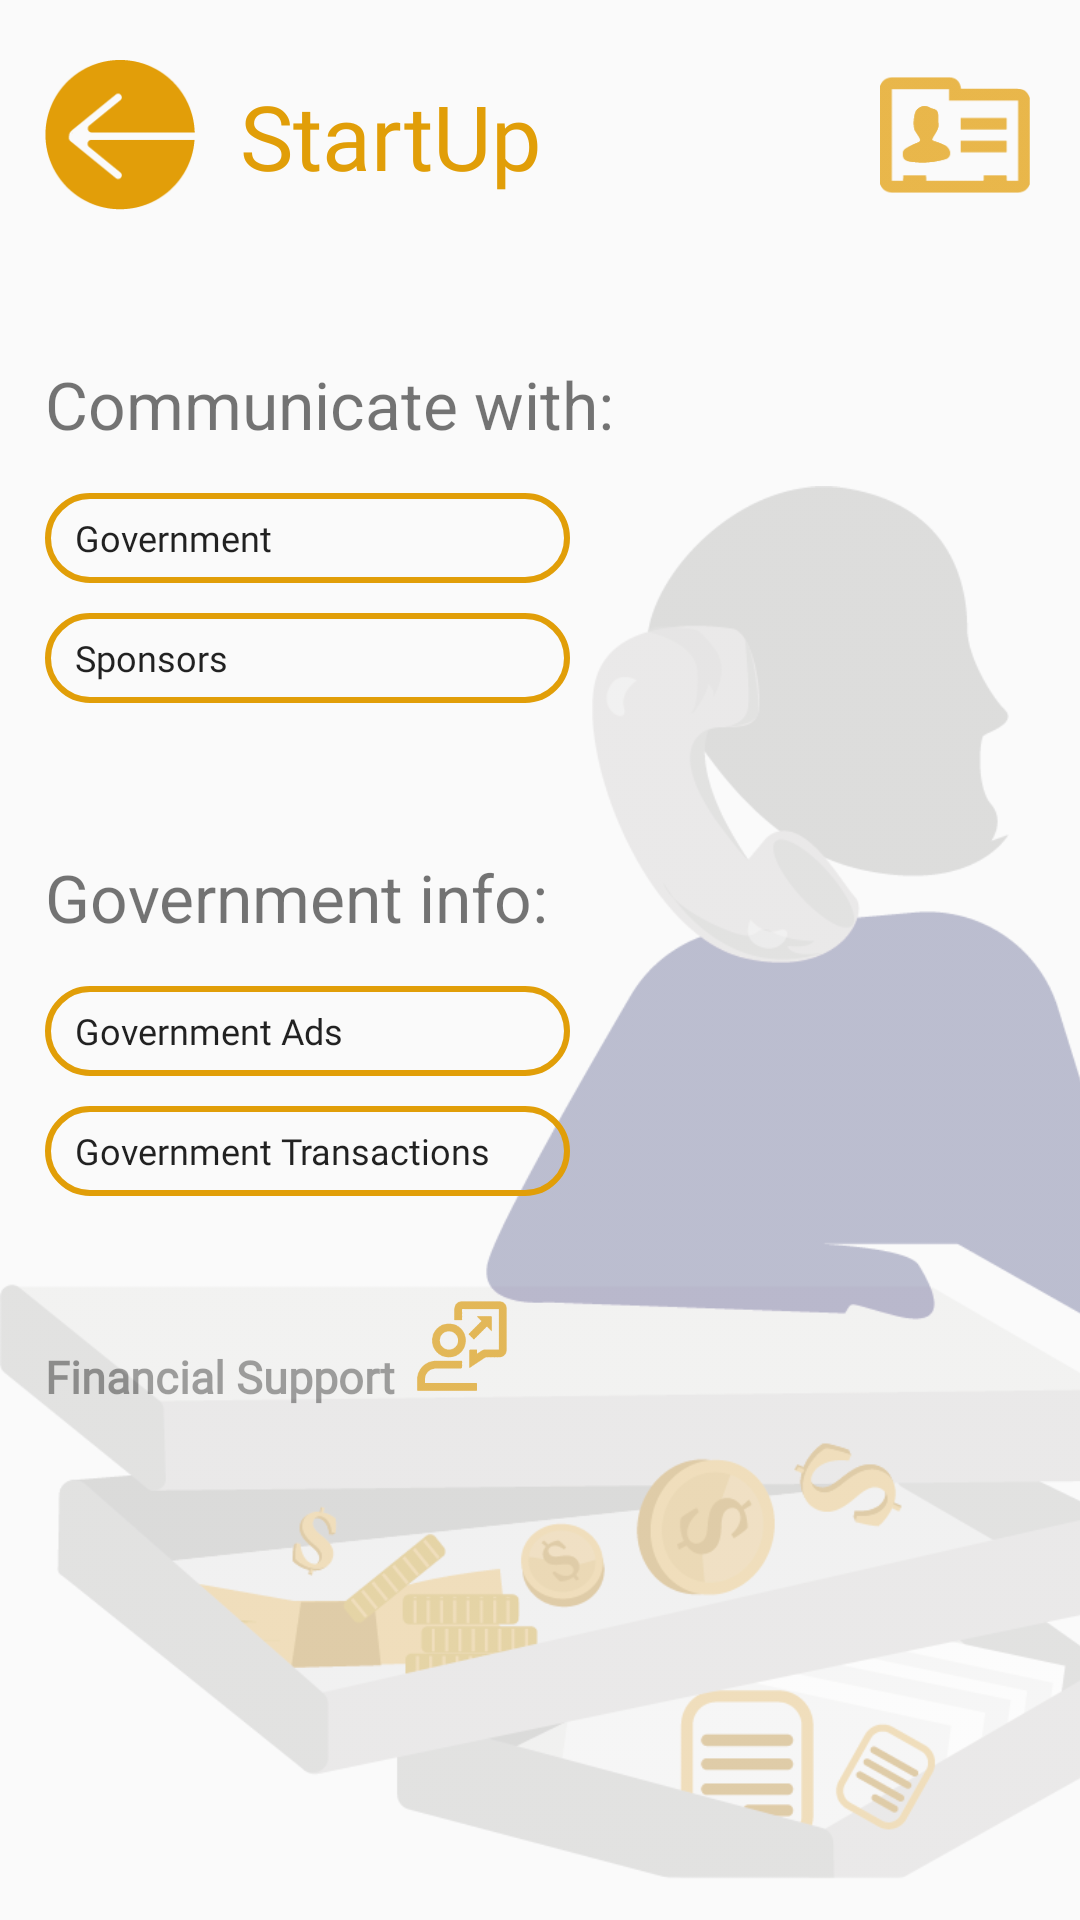

Icons on this 1080x1920 Android screen, each with the point to tap as (x,y):
back: (120,135)
profile: (955,135)
